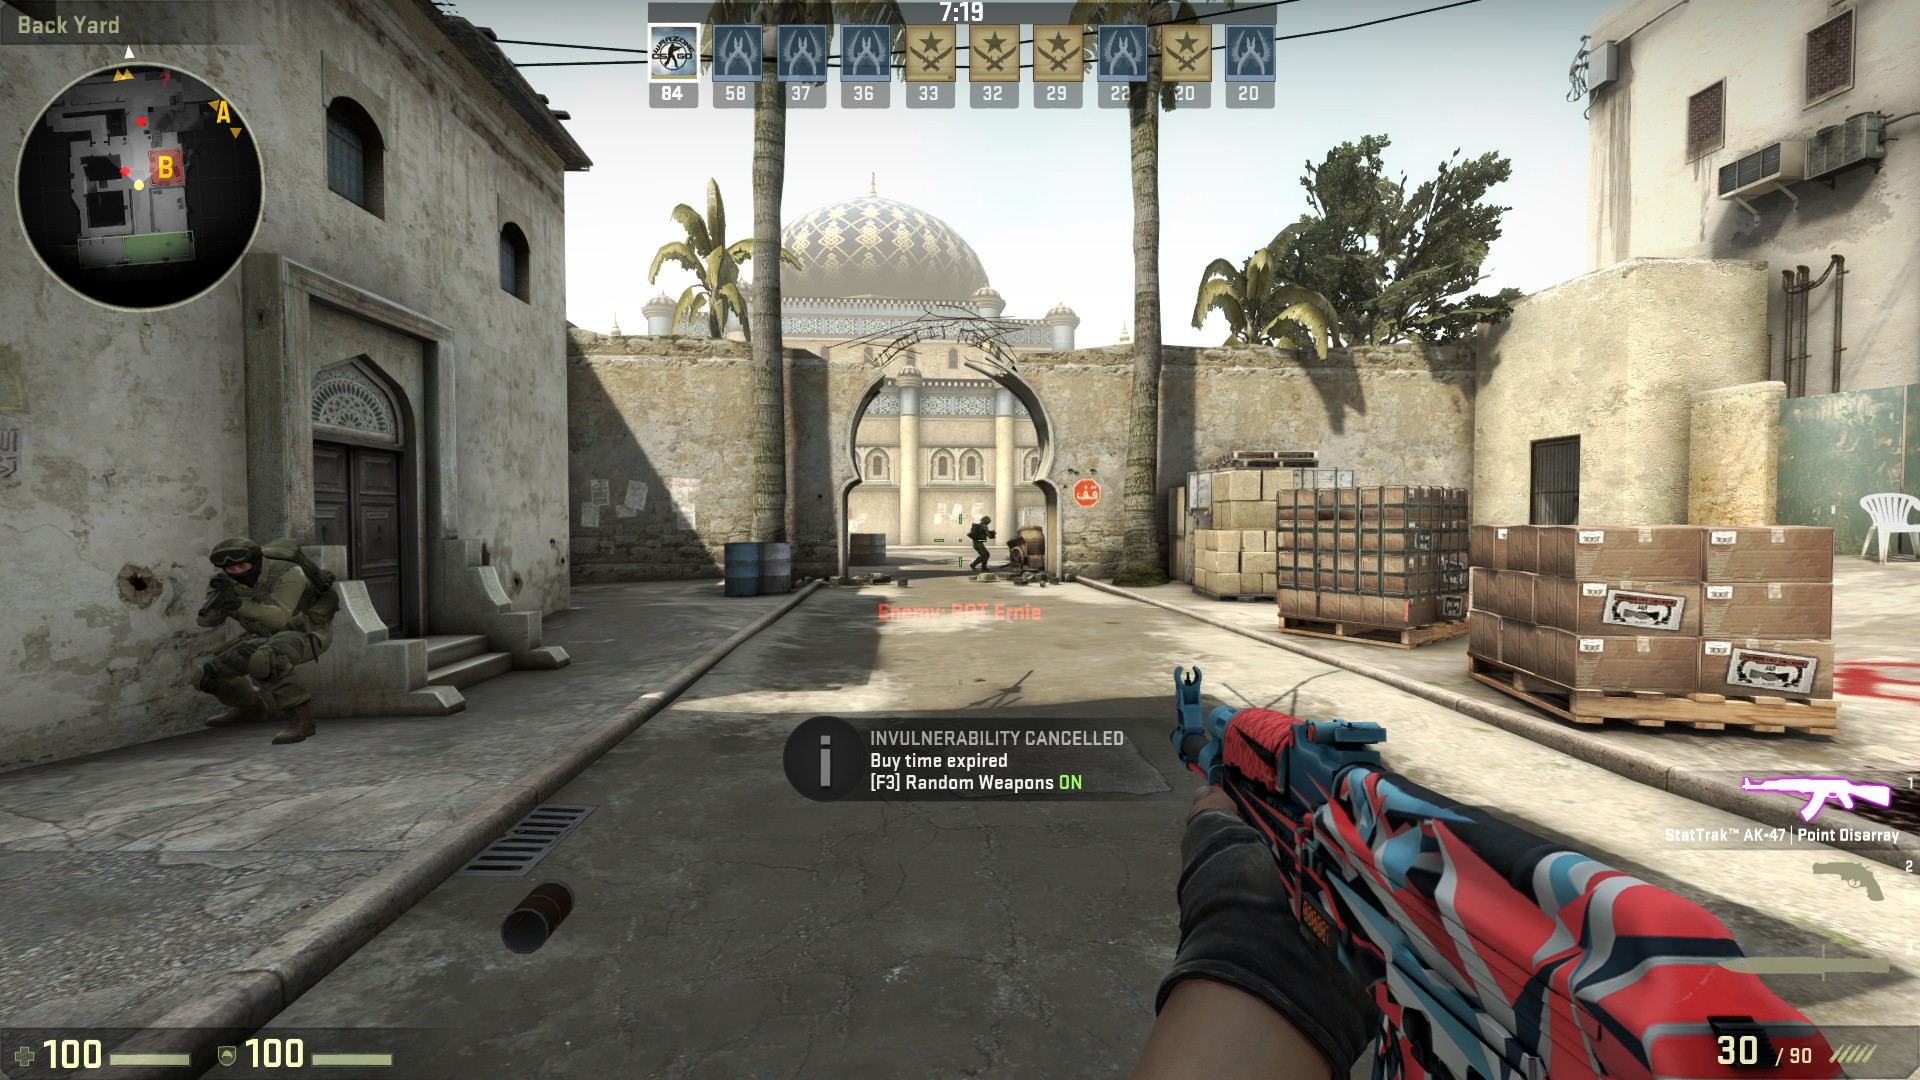c: (190, 533, 334, 742), (967, 516, 993, 572)
ch: (207, 533, 270, 588), (981, 516, 992, 527)
